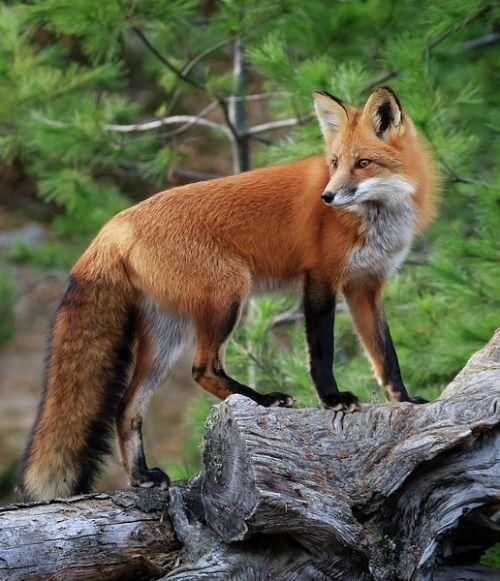fox: (27, 83, 449, 480)
